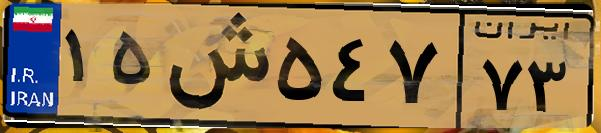1: (57, 26, 110, 100)
3: (525, 38, 570, 115)
4: (330, 28, 385, 110)
5: (270, 28, 330, 110), (110, 28, 158, 98)
7: (385, 28, 445, 110), (475, 38, 525, 113)
ش: (158, 12, 270, 120)
